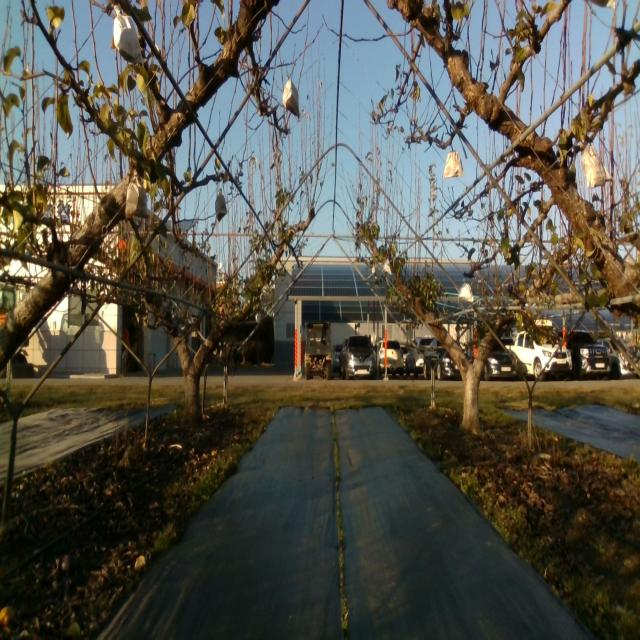pearbags: (114, 5, 144, 65), (581, 142, 612, 188), (125, 168, 147, 218), (282, 74, 299, 116), (443, 146, 464, 180), (215, 188, 228, 221), (458, 278, 473, 302)
